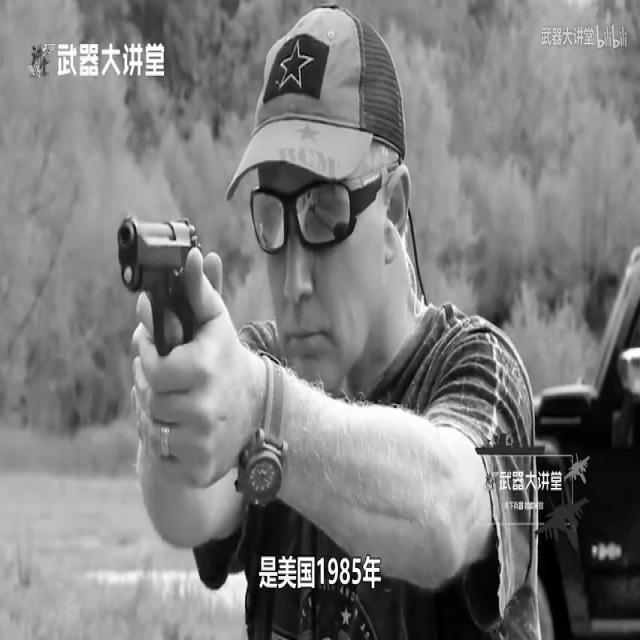Hand-Gun: (94, 143, 281, 489)
